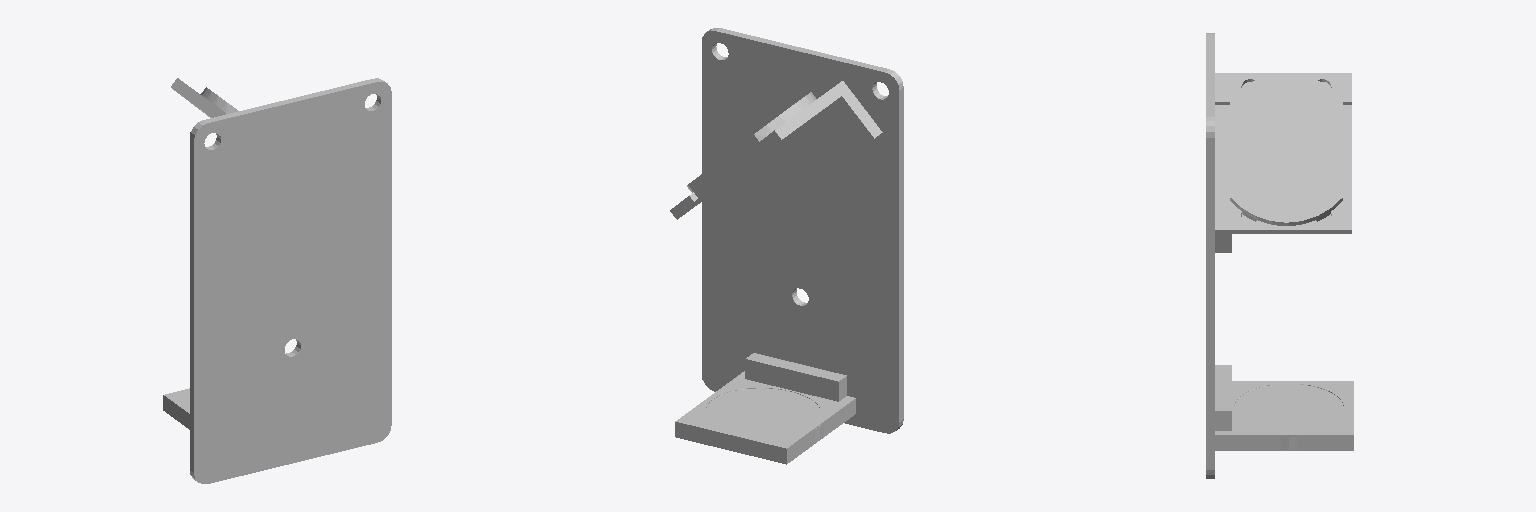
Rendered from lensmirror.obj.
3 views of the same model, side by side, from view 1: azimuth 30°, elevation 25°; view 2: azimuth 150°, elevation 25°; view 3: azimuth 270°, elevation 25° (orthographic).
Visible parts, largest first — view 1: object_1; view 2: object_1; view 3: object_1.
Boxes of the visible parts, box(x1,y1,x2,y2) form: object_1: box(163, 78, 391, 483); object_1: box(670, 28, 903, 464); object_1: box(1206, 33, 1353, 478).
Size of the model in its own units: 1.39 by 2.43 by 0.9001.